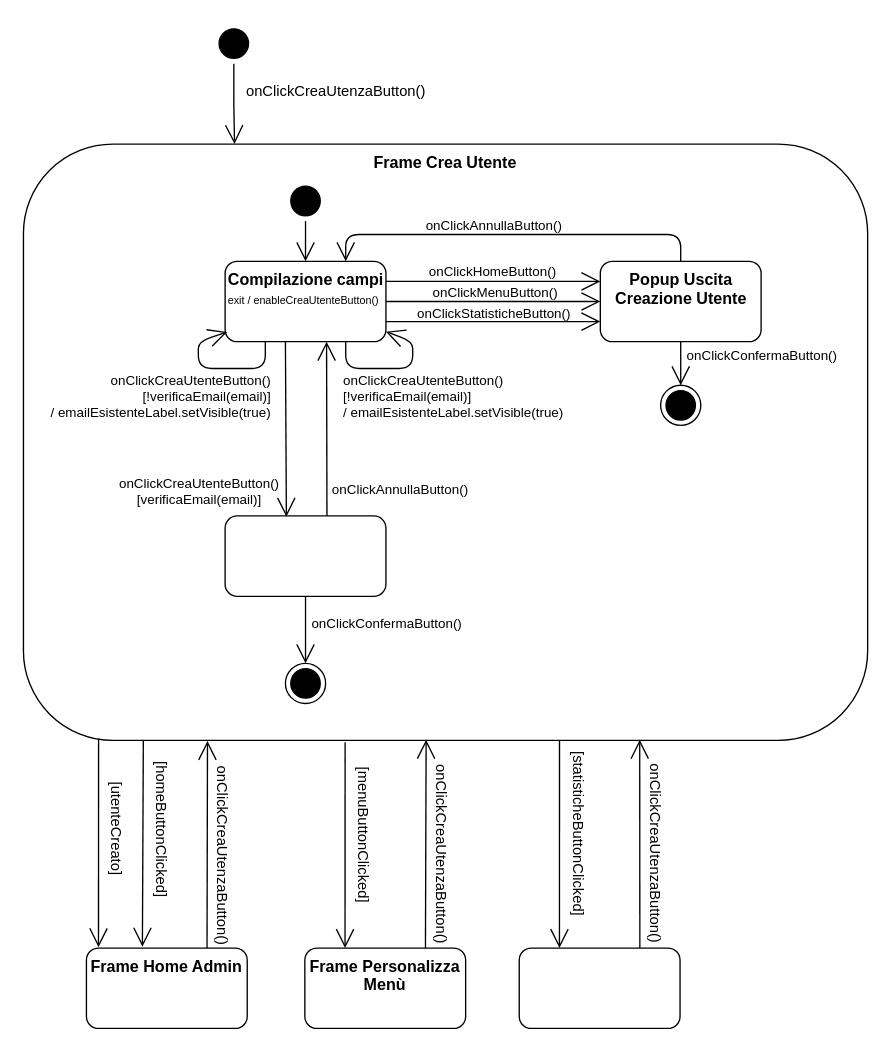
Image size: 891x1052. Some labels were removed from this diagram. The centre of each missing label's shape, as x and y in pixels:
Frame Statistiche: (x=599, y=987)
Popup Creazione Utente: (x=305, y=555)
